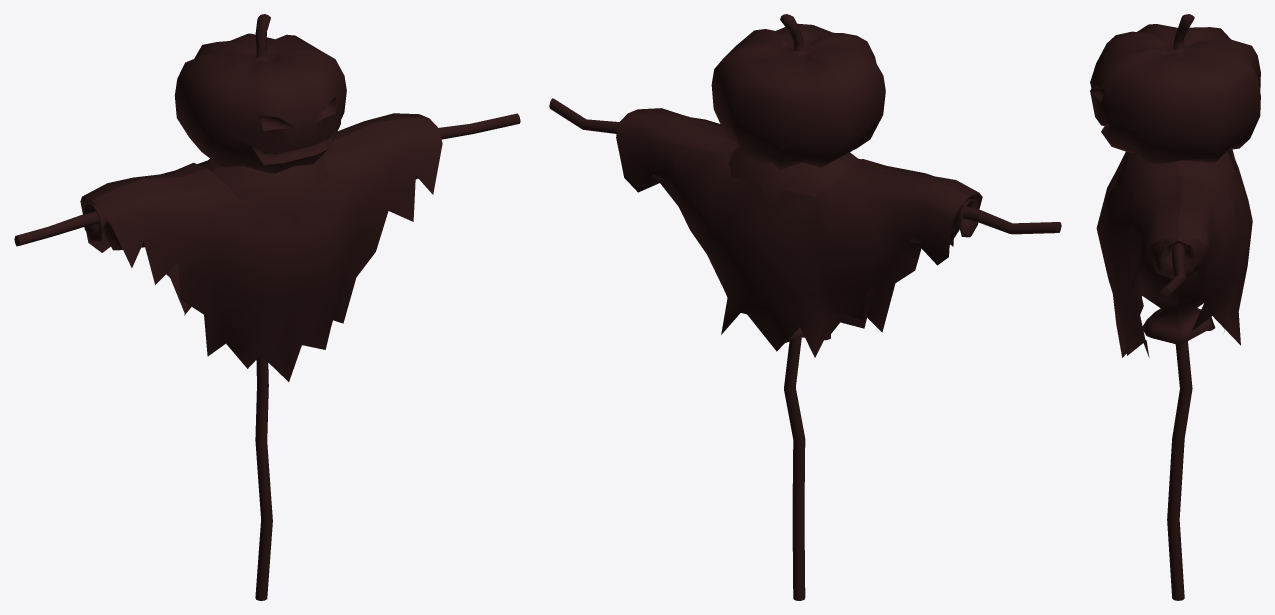
Rendered from Scarecrow_Soften.fbx.
3 views of the same model, side by side, from view 1: azimuth 30°, elevation 25°; view 2: azimuth 150°, elevation 25°; view 3: azimuth 270°, elevation 25° (orthographic).
Parts seen in each view (by area): view 1: Scarecrow1_polySurface4, Scarecrow1_PumpkingHead, ScarecrowBody_Scarecrow1; view 2: Scarecrow1_polySurface4, Scarecrow1_PumpkingHead, ScarecrowBody_Scarecrow1; view 3: Scarecrow1_PumpkingHead, Scarecrow1_polySurface4, ScarecrowBody_Scarecrow1.
Part boxes in pixels (left/top/right/bottom): Scarecrow1_polySurface4: left=80, top=113, right=442, bottom=381; Scarecrow1_PumpkingHead: left=174, top=14, right=346, bottom=173; ScarecrowBody_Scarecrow1: left=14, top=113, right=520, bottom=600; Scarecrow1_polySurface4: left=616, top=108, right=982, bottom=357; Scarecrow1_PumpkingHead: left=711, top=14, right=885, bottom=169; ScarecrowBody_Scarecrow1: left=549, top=98, right=1061, bottom=600; Scarecrow1_PumpkingHead: left=1090, top=14, right=1260, bottom=164; Scarecrow1_polySurface4: left=1096, top=149, right=1252, bottom=357; ScarecrowBody_Scarecrow1: left=1115, top=151, right=1240, bottom=600.
Size of the model in its own units: 177 by 193 by 50.95.
